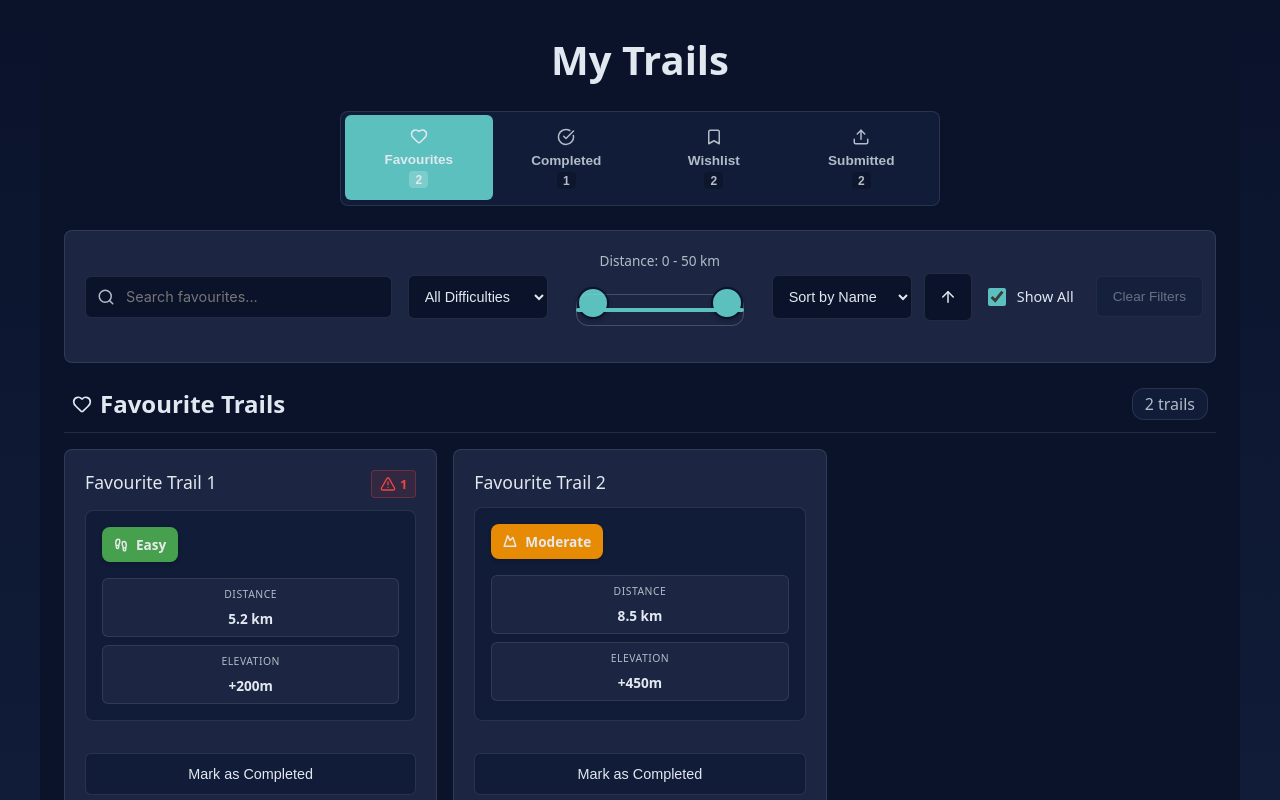
MyTrails Component › Tab Navigation › switches to submitted tab
The width and height of the screenshot is (1280, 800).
Expected: the heading "Favourite Trails" is shown, [72,387,285,420]
Click the text "Submitted".
click(861, 160)  # box [828,153,894,168]
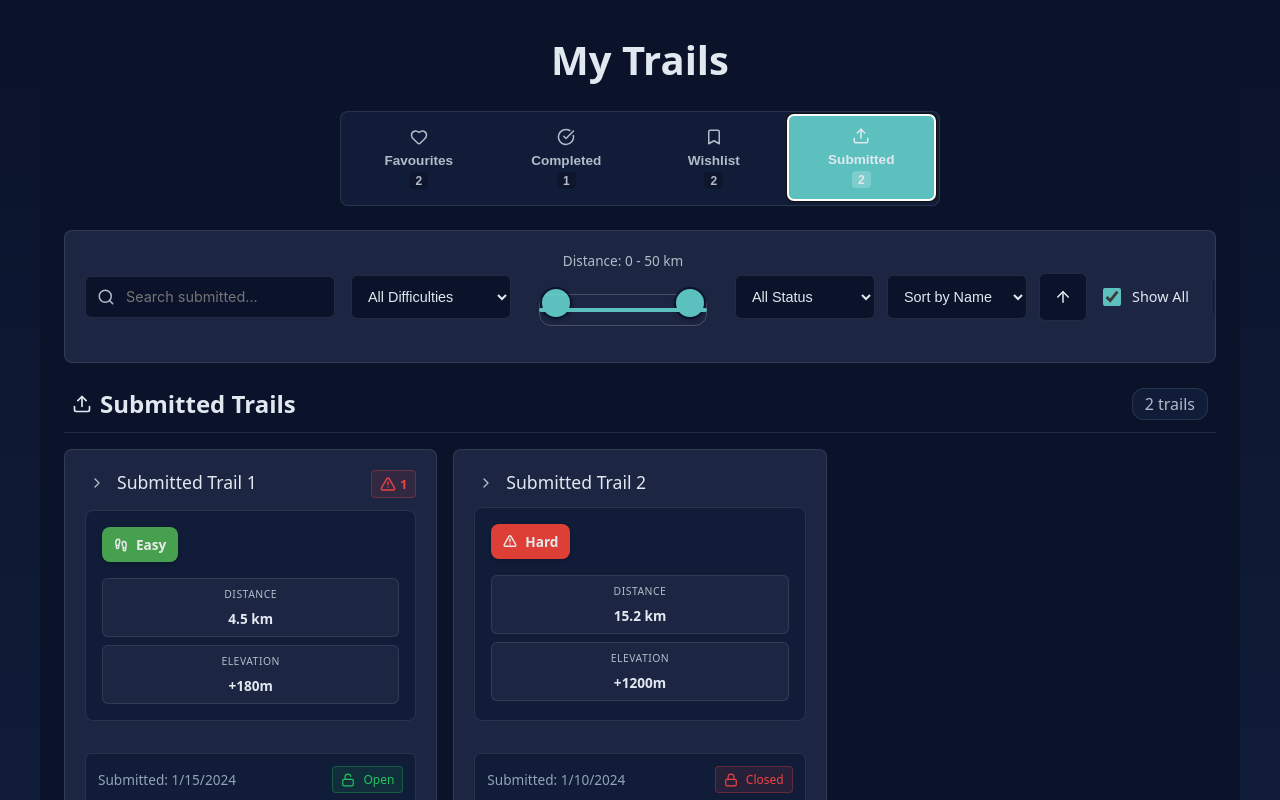
Expected: the heading "Submitted Trails" is shown, [72,387,296,420]
